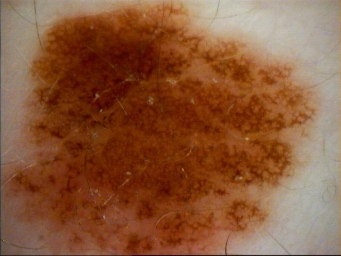nevus: (11, 8, 315, 256)
